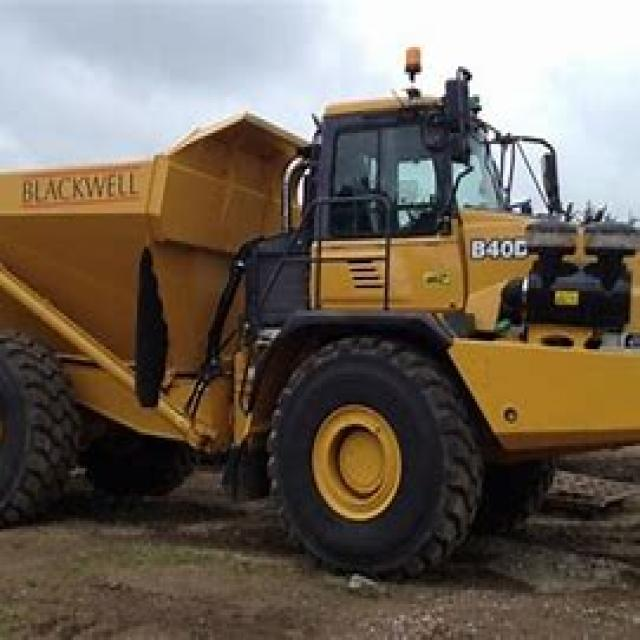dump_truck: (12, 80, 638, 571)
